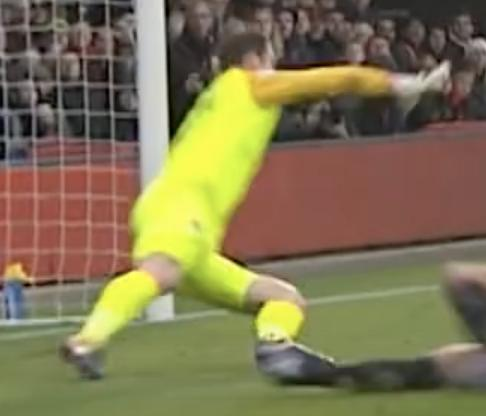goalkeeper: (30, 7, 450, 390)
